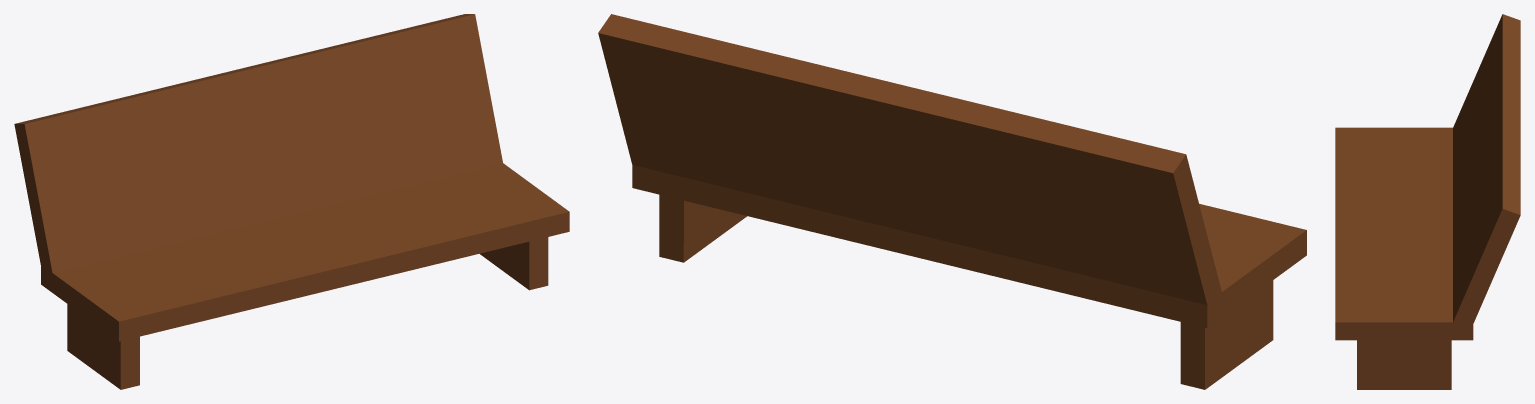
Rendered from Banco.fbx.
3 renders of one model, left to right at view 1: azimuth 30°, elevation 25°; view 2: azimuth 150°, elevation 25°; view 3: azimuth 270°, elevation 25°, orthographic. The views are drawn at different scales.
Parts seen in each view (by area): view 1: banco; view 2: banco; view 3: banco.
Boxes of the visible parts, bbox=[...] form: banco: bbox=[14, 14, 569, 389]; banco: bbox=[598, 14, 1306, 389]; banco: bbox=[1335, 14, 1520, 389].
Size of the model in its own units: 38.65 by 17.14 by 15.56.
